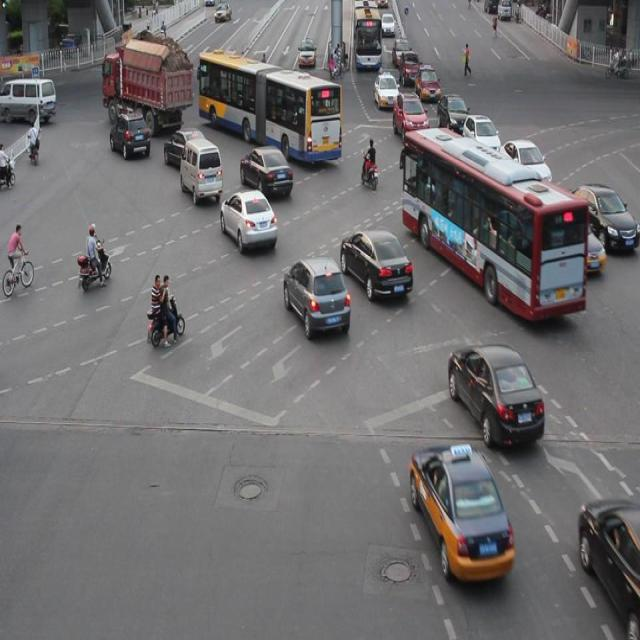BigCar: (403, 101, 603, 338), (198, 38, 334, 175), (102, 21, 185, 119), (342, 7, 389, 77)
car: (403, 438, 532, 590), (450, 331, 562, 452), (356, 198, 412, 377), (573, 460, 640, 596), (298, 254, 348, 360), (241, 135, 302, 215), (222, 185, 274, 259), (180, 122, 212, 229), (0, 62, 65, 105), (378, 84, 434, 120), (115, 121, 155, 163)
